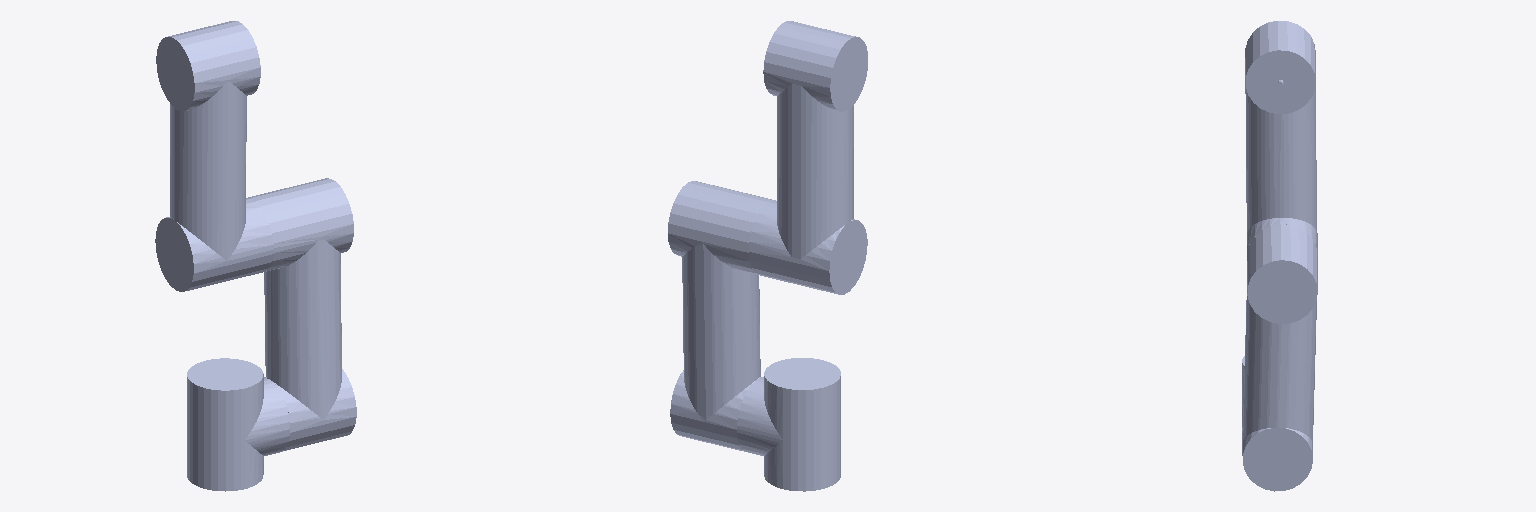
URDF robot description (ciara6):
<?xml version="1.0" encoding="utf-8"?>
<!-- This URDF was automatically created by SolidWorks to URDF Exporter! Originally created by Stephen Brawner (brawner@gmail.com) 
     Commit Version: 1.6.0-4-g7f85cfe  Build Version: 1.6.7995.38578
     For more information, please see http://wiki.ros.org/sw_urdf_exporter -->
<robot
  name="ciara6">
  <link
    name="base_link">
    <inertial>
      <origin
        xyz="-5.3047E-35 0.033905 1.1704E-18"
        rpy="0 0 0" />
      <mass
        value="0.34784" />
      <inertia
        ixx="0.00030423"
        ixy="-9.4382E-37"
        ixz="-3.5725E-37"
        iyy="0.00026302"
        iyz="4.9311E-21"
        izz="0.00030423" />
    </inertial>
    <visual>
      <origin
        xyz="0 0 0"
        rpy="0 0 0" />
      <geometry>
        <mesh
          filename="package://ciara6/meshes/base_link.STL" />
      </geometry>
      <material
        name="">
        <color
          rgba="0.79216 0.81961 0.93333 1" />
      </material>
    </visual>
    <collision>
      <origin
        xyz="0 0 0"
        rpy="0 0 0" />
      <geometry>
        <mesh
          filename="package://ciara6/meshes/base_link.STL" />
      </geometry>
    </collision>
  </link>
  <link
    name="link_1">
    <inertial>
      <origin
        xyz="0.0053016 1.7101E-05 0.084795"
        rpy="0 0 0" />
      <mass
        value="0.32209" />
      <inertia
        ixx="0.00027535"
        ixy="-1.1347E-07"
        ixz="2.0251E-06"
        iyy="0.00031023"
        iyz="6.6064E-09"
        izz="0.00019728" />
    </inertial>
    <visual>
      <origin
        xyz="0 0 0"
        rpy="0 0 0" />
      <geometry>
        <mesh
          filename="package://ciara6/meshes/link_1.STL" />
      </geometry>
      <material
        name="">
        <color
          rgba="0.79216 0.81961 0.93333 1" />
      </material>
    </visual>
    <collision>
      <origin
        xyz="0 0 0"
        rpy="0 0 0" />
      <geometry>
        <mesh
          filename="package://ciara6/meshes/link_1.STL" />
      </geometry>
    </collision>
  </link>
  <joint
    name="jnt_1"
    type="revolute">
    <origin
      xyz="0 0 0.04"
      rpy="0 0 0" />
    <parent
      link="base_link" />
    <child
      link="link_1" />
    <axis
      xyz="0 0 1" />
    <limit
      lower="-1.5708"
      upper="1.5708"
      effort="1.96133"
      velocity="3" />
  </joint>
  <link
    name="link_2">
    <inertial>
      <origin
        xyz="0.0022102 0.085247 0.07203"
        rpy="0 0 0" />
      <mass
        value="0.74363" />
      <inertia
        ixx="0.0033845"
        ixy="-7.6454E-05"
        ixz="2.9253E-06"
        iyy="0.00043764"
        iyz="0.00011281"
        izz="0.0033235" />
    </inertial>
    <visual>
      <origin
        xyz="0 0 0"
        rpy="0 0 0" />
      <geometry>
        <mesh
          filename="package://ciara6/meshes/link_2.STL" />
      </geometry>
      <material
        name="">
        <color
          rgba="0.79216 0.81961 0.93333 1" />
      </material>
    </visual>
    <collision>
      <origin
        xyz="0 0 0"
        rpy="0 0 0" />
      <geometry>
        <mesh
          filename="package://ciara6/meshes/link_2.STL" />
      </geometry>
    </collision>
  </link>
  <joint
    name="jnt_2"
    type="revolute">
    <origin
      xyz="0 0 0.083609"
      rpy="1.5708 0 1.574" />
    <parent
      link="link_1" />
    <child
      link="link_2" />
    <axis
      xyz="0 0 -1" />
    <limit
      lower="-1.5708"
      upper="1.5708"
      effort="3.92266"
      velocity="3" />
  </joint>
  <link
    name="link_3">
    <inertial>
      <origin
        xyz="0.00064205 0.076724 0.086012"
        rpy="0 0 0" />
      <mass
        value="0.74403" />
      <inertia
        ixx="0.0033894"
        ixy="-2.4714E-05"
        ixz="-9.46E-07"
        iyy="0.00043638"
        iyz="-0.00011299"
        izz="0.0033261" />
    </inertial>
    <visual>
      <origin
        xyz="0 0 0"
        rpy="0 0 0" />
      <geometry>
        <mesh
          filename="package://ciara6/meshes/link_3.STL" />
      </geometry>
      <material
        name="">
        <color
          rgba="0.79216 0.81961 0.93333 1" />
      </material>
    </visual>
    <collision>
      <origin
        xyz="0 0 0"
        rpy="0 0 0" />
      <geometry>
        <mesh
          filename="package://ciara6/meshes/link_3.STL" />
      </geometry>
    </collision>
  </link>
  <joint
    name="jnt_3"
    type="revolute">
    <origin
      xyz="0.0041987 0.16195 0.074"
      rpy="-3.1416 0 3.1416" />
    <parent
      link="link_2" />
    <child
      link="link_3" />
    <axis
      xyz="0 0 -1" />
    <limit
      lower="-2.3562"
      upper="2.3562"
      effort="3.9227"
      velocity="3" />
  </joint>
  <link
    name="link_4">
    <inertial>
      <origin
        xyz="-7.4895E-10 0.0099327 -0.035034"
        rpy="0 0 0" />
      <mass
        value="0.28528" />
      <inertia
        ixx="0.00023794"
        ixy="6.3275E-12"
        ixz="-2.4072E-11"
        iyy="0.0001749"
        iyz="-9.5075E-08"
        izz="0.00020802" />
    </inertial>
    <visual>
      <origin
        xyz="0 0 0"
        rpy="0 0 0" />
      <geometry>
        <mesh
          filename="package://ciara6/meshes/link_4.STL" />
      </geometry>
      <material
        name="">
        <color
          rgba="0.79216 0.81961 0.93333 1" />
      </material>
    </visual>
    <collision>
      <origin
        xyz="0 0 0"
        rpy="0 0 0" />
      <geometry>
        <mesh
          filename="package://ciara6/meshes/link_4.STL" />
      </geometry>
    </collision>
  </link>
  <joint
    name="jnt_4"
    type="revolute">
    <origin
      xyz="0.0013557 0.16199 -0.013"
      rpy="3.1416 0 -3.1416" />
    <parent
      link="link_3" />
    <child
      link="link_4" />
    <axis
      xyz="0 0 1" />
    <limit
      lower="-2.3562"
      upper="2.3562"
      effort="1.0787315"
      velocity="3" />
  </joint>
</robot>

--- Facts derived from the render (not from the file) ---
Views: 3 orthographic renders of the robot side by side, from view 1: azimuth 30°, elevation 25°; view 2: azimuth 150°, elevation 25°; view 3: azimuth 270°, elevation 25°.
Model ciara6 with 5 links and 4 joints (4 revolute), rooted at base_link, posed all joints at 0.
Links seen in each view (by area): view 1: link_3, link_2, link_1; view 2: link_3, link_2, link_1; view 3: link_2, link_3.
Boxes of the visible links, <box> form: link_3: <box>155,21,273,291</box>; link_2: <box>248,178,356,451</box>; link_1: <box>187,358,290,491</box>; link_3: <box>749,21,867,294</box>; link_2: <box>668,181,772,451</box>; link_1: <box>737,358,840,491</box>; link_2: <box>1242,224,1317,491</box>; link_3: <box>1245,21,1317,254</box>.
Size in the robot's own frame: 0.1502 by 0.0665 by 0.3985 metres.
Meshes: 5 distinct files referenced, 3 mesh visuals loaded (3 binary STL); not drawn: 2 (reference not matched to a file when rendering).
